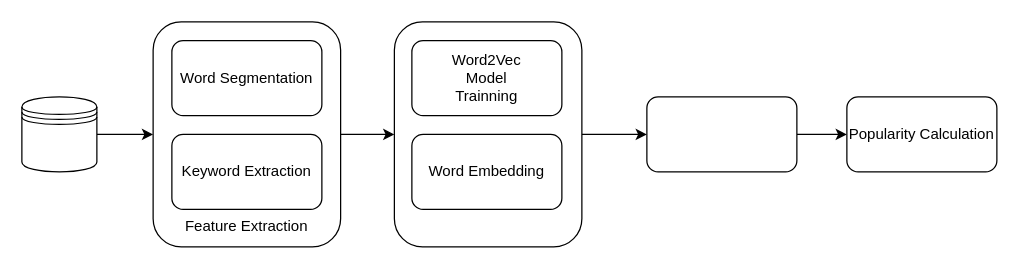
This 1019x269 diagram has some shape labels left out. The box of each missing label's shape, as (x1, y1, x2, y2) in pixels:
Data Set: (21, 96, 97, 172)
Document Clustering: (646, 96, 797, 172)
Vector Representation: (393, 21, 582, 247)
